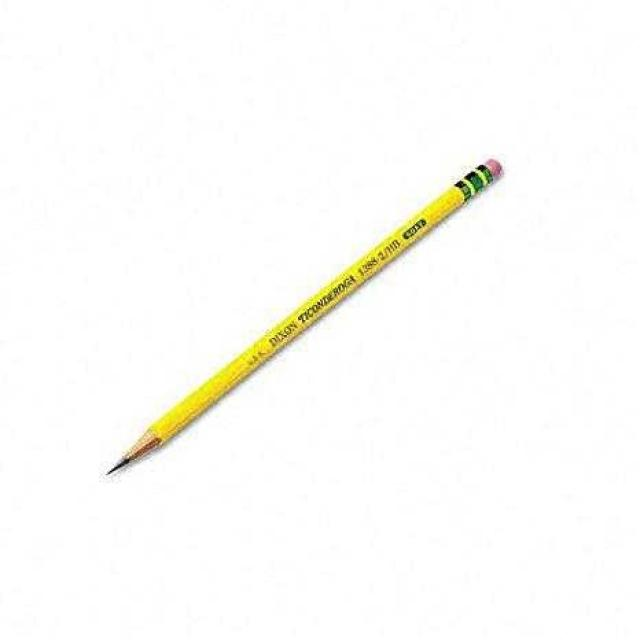pencil: (87, 140, 530, 491)
